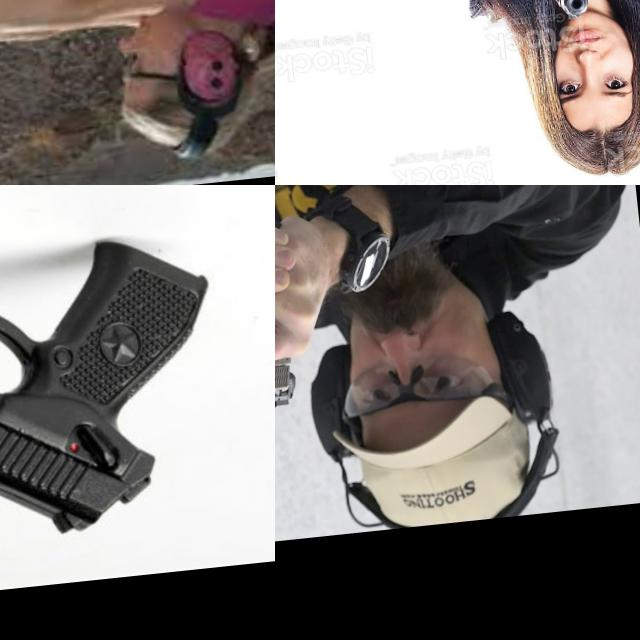handgun: (0, 187, 262, 573), (275, 294, 349, 423), (0, 37, 63, 105), (547, 0, 591, 35)
